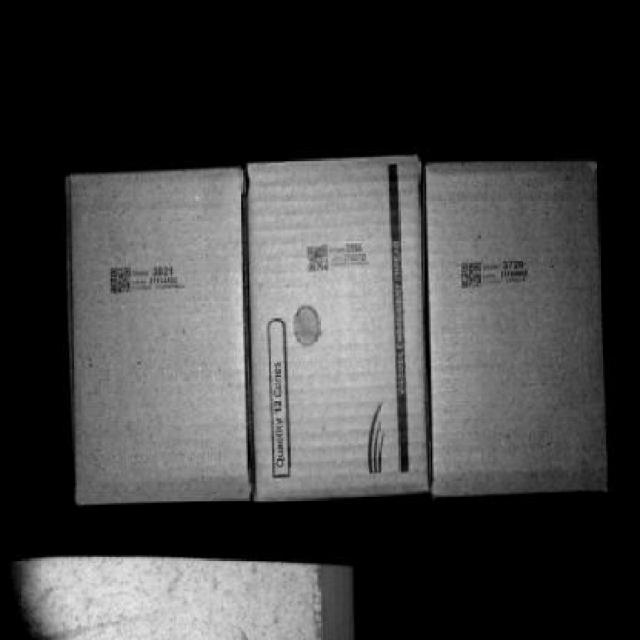cardboxes: (427, 153, 611, 496), (250, 156, 430, 498), (70, 168, 252, 502)
